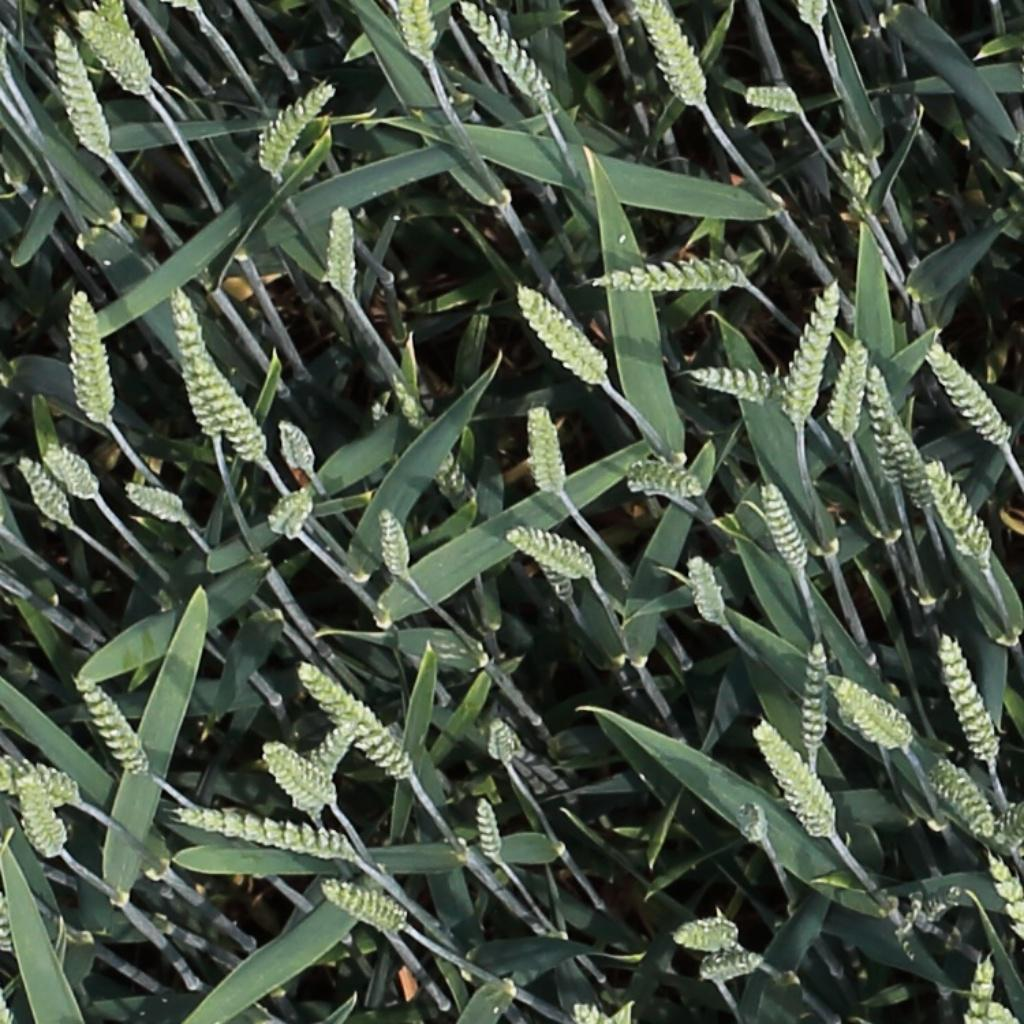0-0: (299, 663, 416, 780), (173, 799, 356, 860), (457, 0, 557, 111), (753, 720, 841, 839), (189, 338, 270, 466), (780, 274, 846, 425), (925, 339, 1013, 450), (584, 247, 748, 305), (516, 282, 608, 383), (819, 666, 918, 757), (73, 670, 151, 783), (937, 630, 1000, 768), (627, 0, 709, 106), (172, 286, 224, 443), (257, 78, 337, 179), (926, 458, 997, 568), (52, 26, 111, 158), (863, 360, 918, 492), (65, 291, 116, 420), (73, 6, 148, 92), (261, 729, 335, 811), (931, 763, 1000, 846), (312, 880, 412, 934), (506, 524, 598, 580), (12, 451, 75, 532), (761, 477, 812, 577), (20, 774, 76, 863), (94, 2, 156, 80), (827, 335, 872, 439), (521, 396, 565, 500), (319, 201, 364, 298), (981, 851, 1024, 945), (890, 422, 936, 509), (40, 438, 98, 502), (688, 365, 779, 405), (0, 753, 77, 800), (311, 716, 361, 786), (618, 460, 707, 499), (683, 549, 725, 629), (804, 638, 830, 760), (268, 481, 318, 542), (375, 501, 413, 581), (395, 0, 441, 66), (435, 446, 477, 517), (274, 413, 319, 479), (472, 793, 509, 872), (666, 914, 741, 950), (124, 481, 189, 522), (739, 83, 814, 117), (694, 953, 768, 987), (961, 955, 995, 1023), (985, 796, 1024, 849), (535, 557, 582, 599), (738, 797, 772, 851), (488, 715, 518, 774), (570, 1000, 630, 1024), (795, 0, 833, 35), (966, 1002, 1018, 1024)
